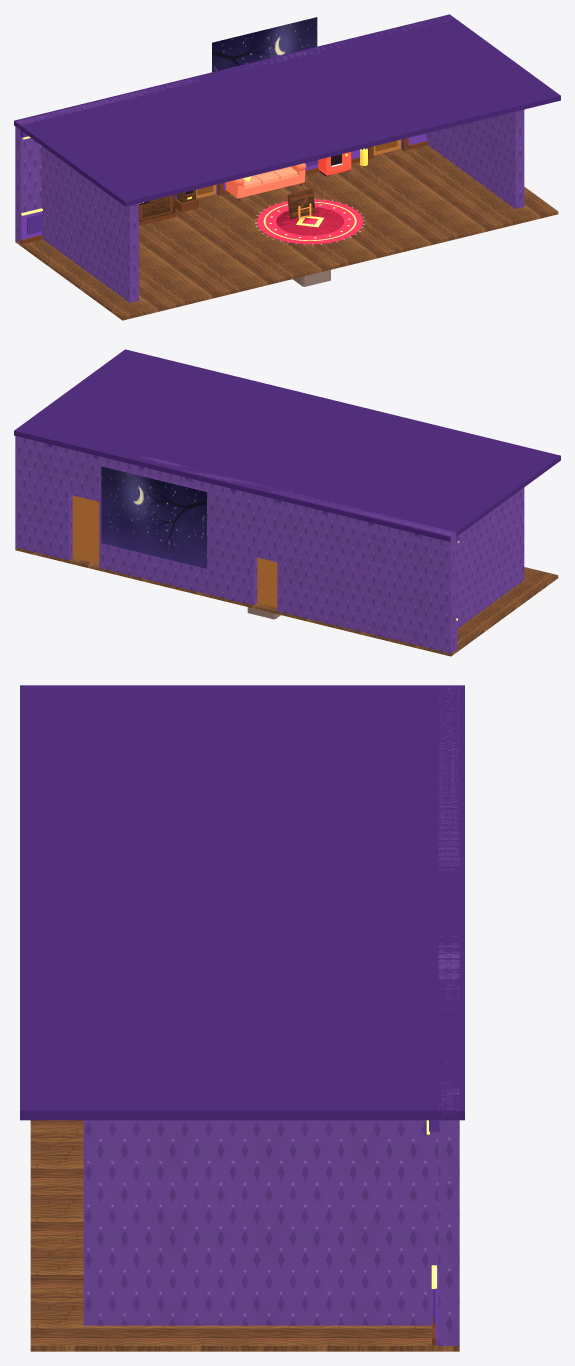
Rendered from lobby.glb.
3 views of the same model, one above another, from view 1: azimuth 30°, elevation 25°; view 2: azimuth 150°, elevation 25°; view 3: azimuth 270°, elevation 25° (orthographic). The views are drawn at different scales.
Visible parts, largest first — view 1: L_Decke.001, L_Boden.001, L_Seitenwand-1.001, L_Seitenwand1.001, L_Wand.001, L_Himmel.001, L_TeppichLoch.001, L_TeppichInnenLoch.001, L_TeppichInnen.001, L_SofaSockel.001, L_Klappe.001, L_AutomatKoerper.001 (+1 smaller); view 2: L_Decke.001, L_Wand.001, L_Himmel.001, L_Seitenwand-1.001, L_Boden.001, L_TuerBlatt.001, L_KonfTuerBlatt.001; view 3: L_Decke.001, L_Seitenwand1.001, L_Boden.001, L_Wand.001.
Boxes of the visible parts, x1,y1,x2,y2 form: L_Decke.001: (14, 14, 560, 206); L_Boden.001: (15, 145, 558, 320); L_Seitenwand-1.001: (41, 146, 138, 302); L_Seitenwand1.001: (427, 110, 524, 208); L_Wand.001: (15, 16, 452, 242); L_Himmel.001: (212, 17, 317, 72); L_TeppichLoch.001: (257, 199, 362, 244); L_TeppichInnenLoch.001: (276, 207, 343, 235); L_TeppichInnen.001: (276, 207, 343, 235); L_SofaSockel.001: (226, 175, 304, 198); L_Klappe.001: (287, 188, 315, 219); L_AutomatKoerper.001: (318, 152, 351, 175); L_Decke.001: (14, 349, 560, 541); L_Wand.001: (15, 436, 456, 653); L_Himmel.001: (101, 466, 206, 568); L_Seitenwand-1.001: (456, 487, 524, 628); L_Boden.001: (15, 547, 558, 656); L_TuerBlatt.001: (72, 495, 99, 564); L_KonfTuerBlatt.001: (257, 557, 277, 607); L_Decke.001: (20, 685, 464, 1120); L_Seitenwand1.001: (83, 1120, 438, 1325); L_Boden.001: (30, 1120, 459, 1351); L_Wand.001: (438, 686, 459, 1345).
Size of the model in its own units: 19 by 7.57 by 10.1.
Materials: 61 (8 with a texture image).
